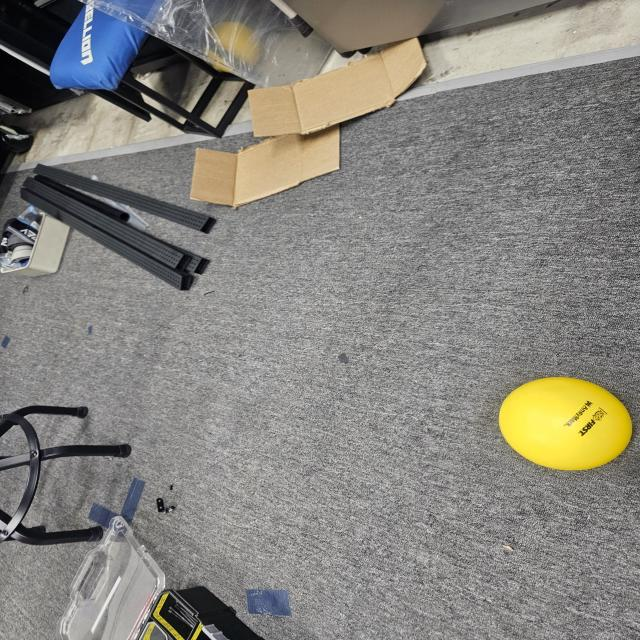Fuel: (492, 372, 639, 476)
